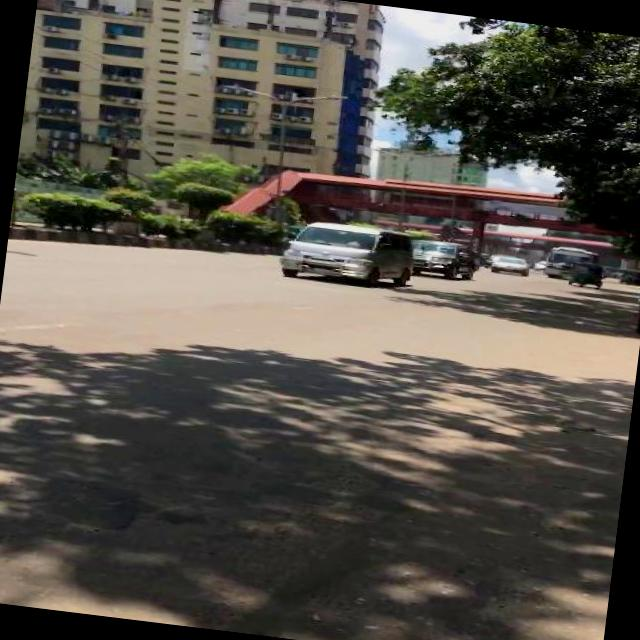bus: (540, 243, 596, 283)
car: (489, 253, 530, 275)
motorcycle: (568, 259, 603, 288)
truck: (274, 212, 418, 290), (406, 236, 476, 284)
